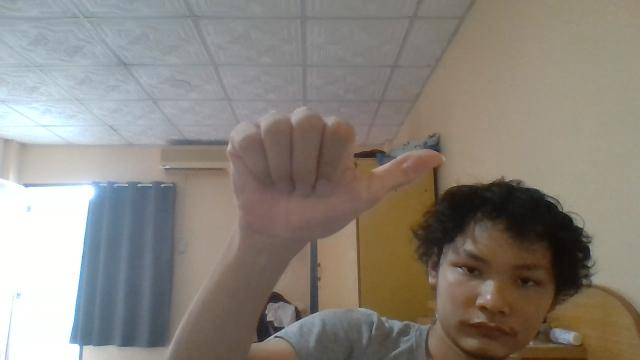left: (226, 106, 444, 254)
